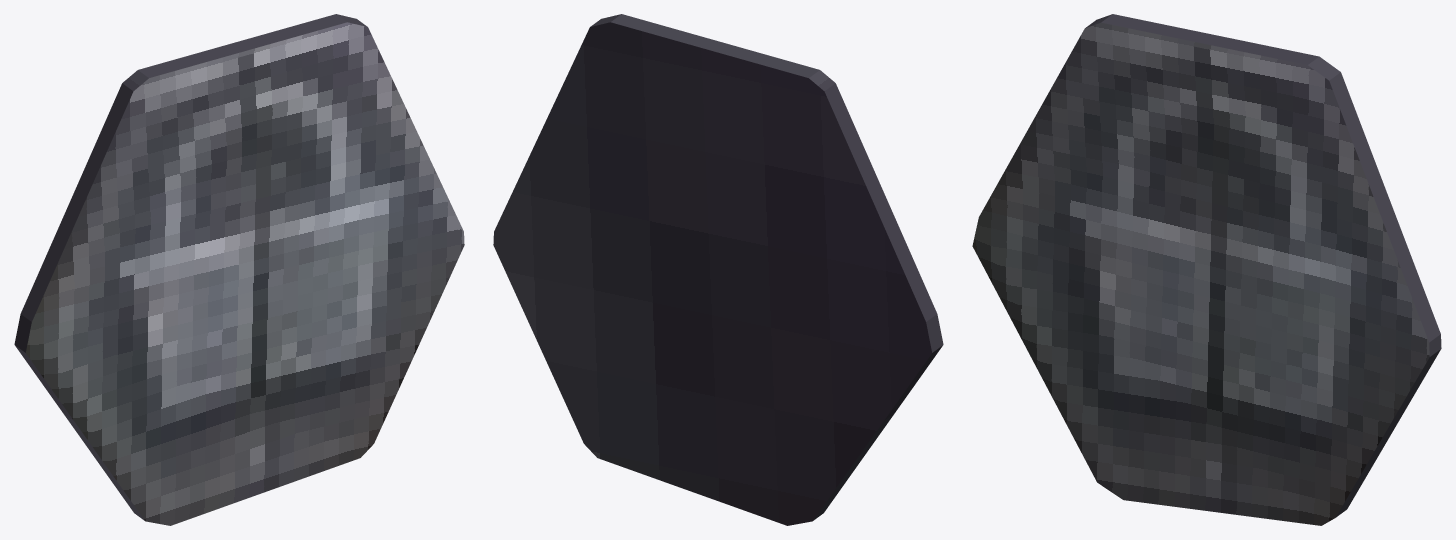
File: LockedMana.glb
3 renders of one model, left to right at view 1: azimuth 30°, elevation 25°; view 2: azimuth 150°, elevation 25°; view 3: azimuth 330°, elevation 25°, orthographic. The views are drawn at different scales.
Visible parts, largest first — view 1: Circle.001; view 2: Circle.001; view 3: Circle.001.
Part boxes in pixels (x1=…): Circle.001: x1=14, y1=14, x2=464, y2=525; Circle.001: x1=493, y1=14, x2=943, y2=525; Circle.001: x1=972, y1=14, x2=1441, y2=525.
Bounding box in the file's own units: 0.8072 × 0.8095 × 0.036.
1 material, 1 textured.
